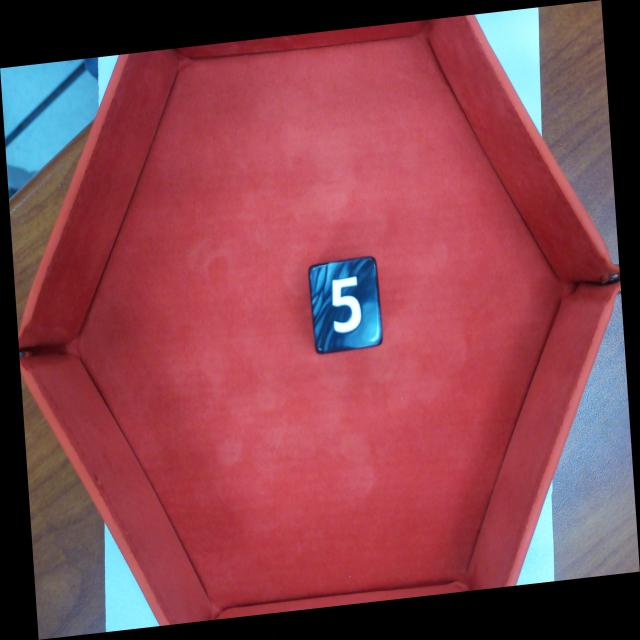dice: (307, 254, 384, 357)
